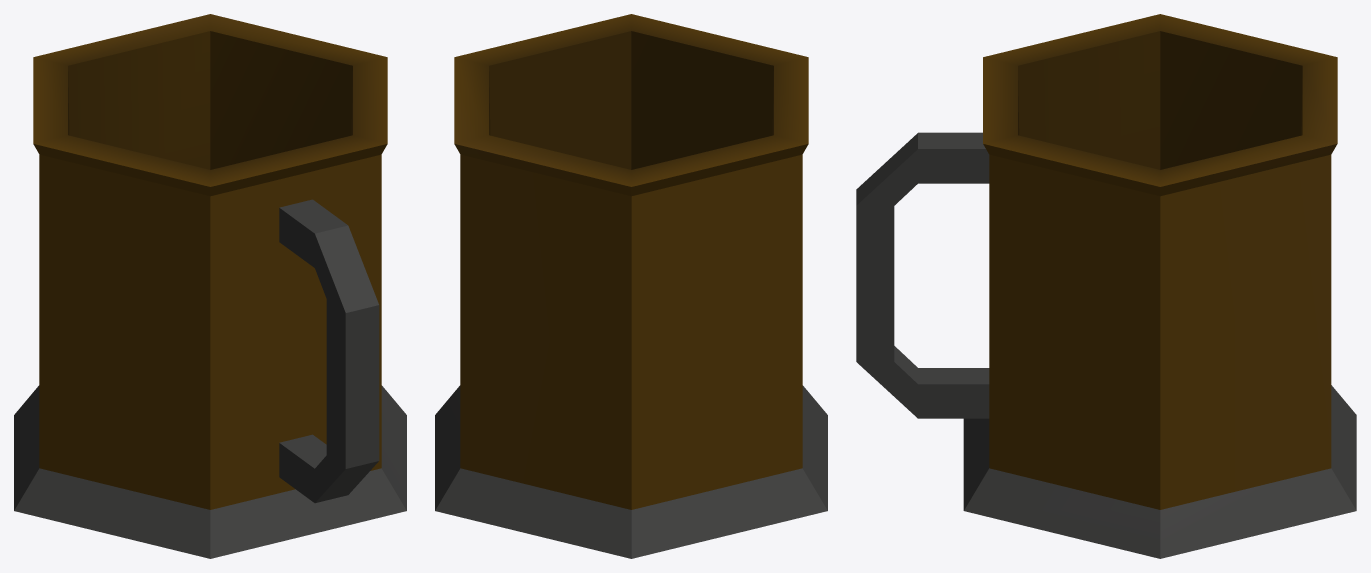
The model's file is Mug.glb.
The picture shows the model from 3 angles, left to right: view 1: azimuth 30°, elevation 25°; view 2: azimuth 150°, elevation 25°; view 3: azimuth 270°, elevation 25°; orthographic projection.
Parts seen in each view (by area): view 1: Cylinder; view 2: Cylinder; view 3: Cylinder.
Boxes of the visible parts, x1=… form: Cylinder: x1=14, y1=14, x2=406, y2=558; Cylinder: x1=435, y1=14, x2=827, y2=558; Cylinder: x1=856, y1=14, x2=1356, y2=558.
Size of the model in its own units: 0.2931 by 0.2584 by 0.3233.
